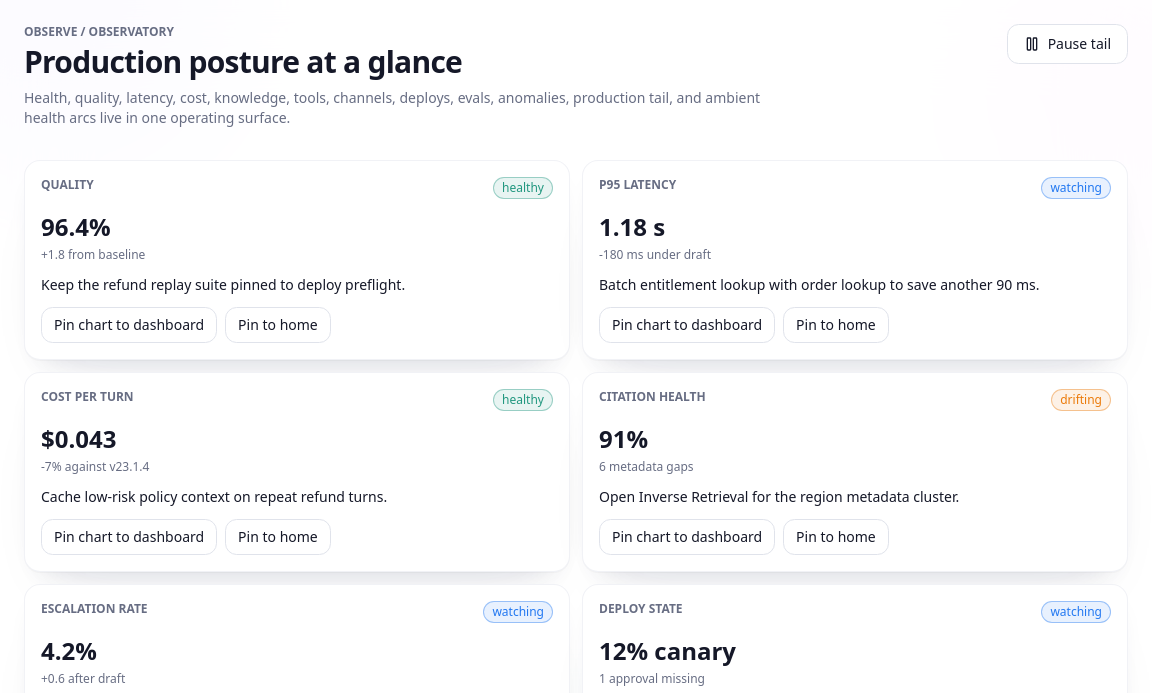
Test case: ObservatoryScreen › shows backend-required errors instead of locally pinning dashboards
This screenshot has width=1152, height=693.
Click the button with test id "observatory-pin-quality": [129, 325] box [41,307,217,343]
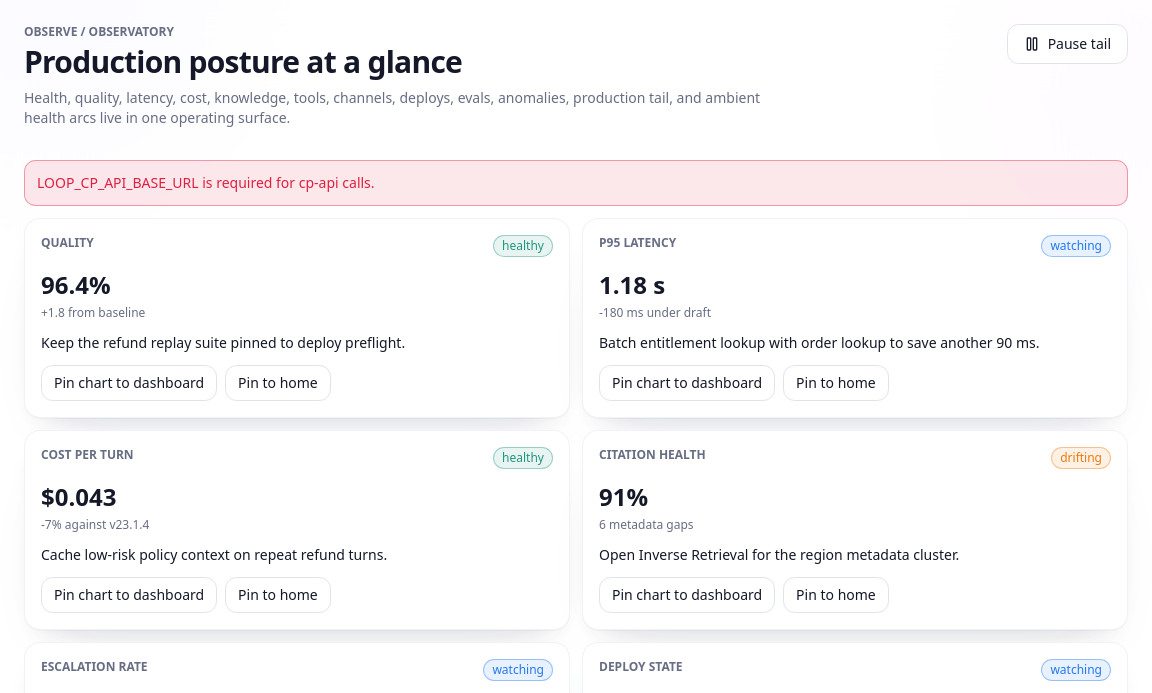
Check: the button with test id "observatory-pin-quality" reads "Pin chart to dashboard", box [41,365,217,401]
Check: the text "LOOP_CP_API_BASE_URL is required for cp-api calls." is shown, box [24,160,1128,206]
